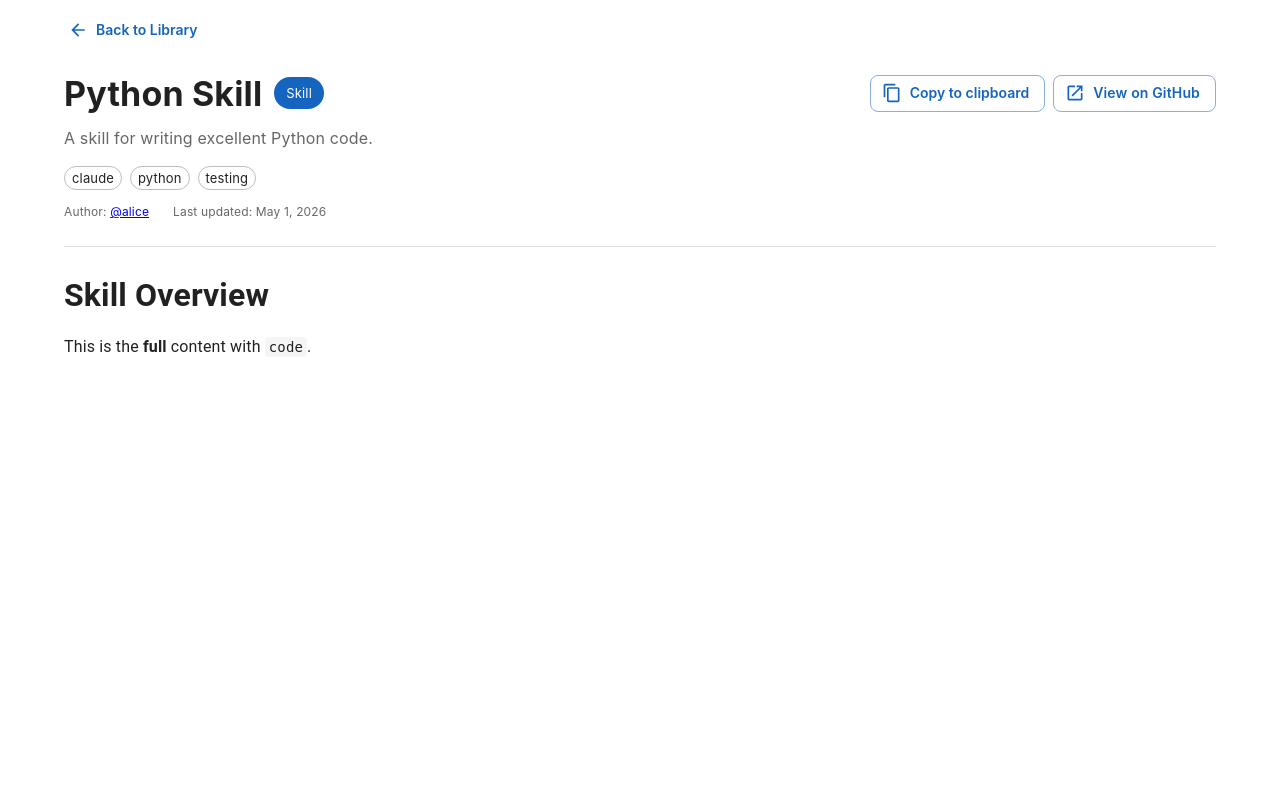
Test case: ItemDetail › copy to clipboard (AC 4) › shows 'Copied to clipboard' toast on successful copy
The image size is (1280, 812).
What coordinates should you click on to do the following:
click the button "Copy to clipboard"
I would click on:
 (957, 93)
Its box is [870, 75, 1045, 112].
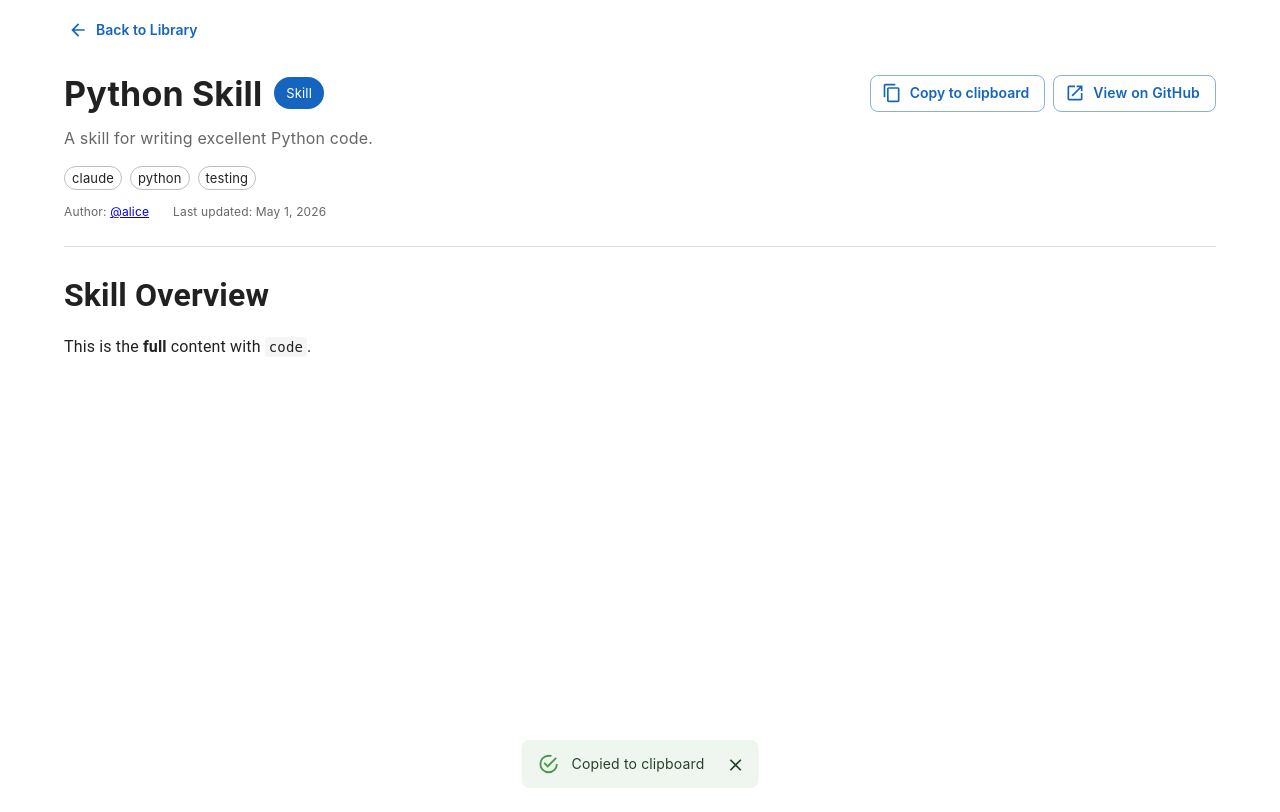
Check: the text "Copied to clipboard" is shown, box [572, 755, 704, 772]
